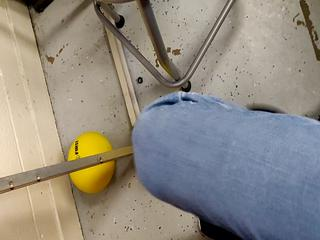power_cell: (62, 121, 120, 192)
